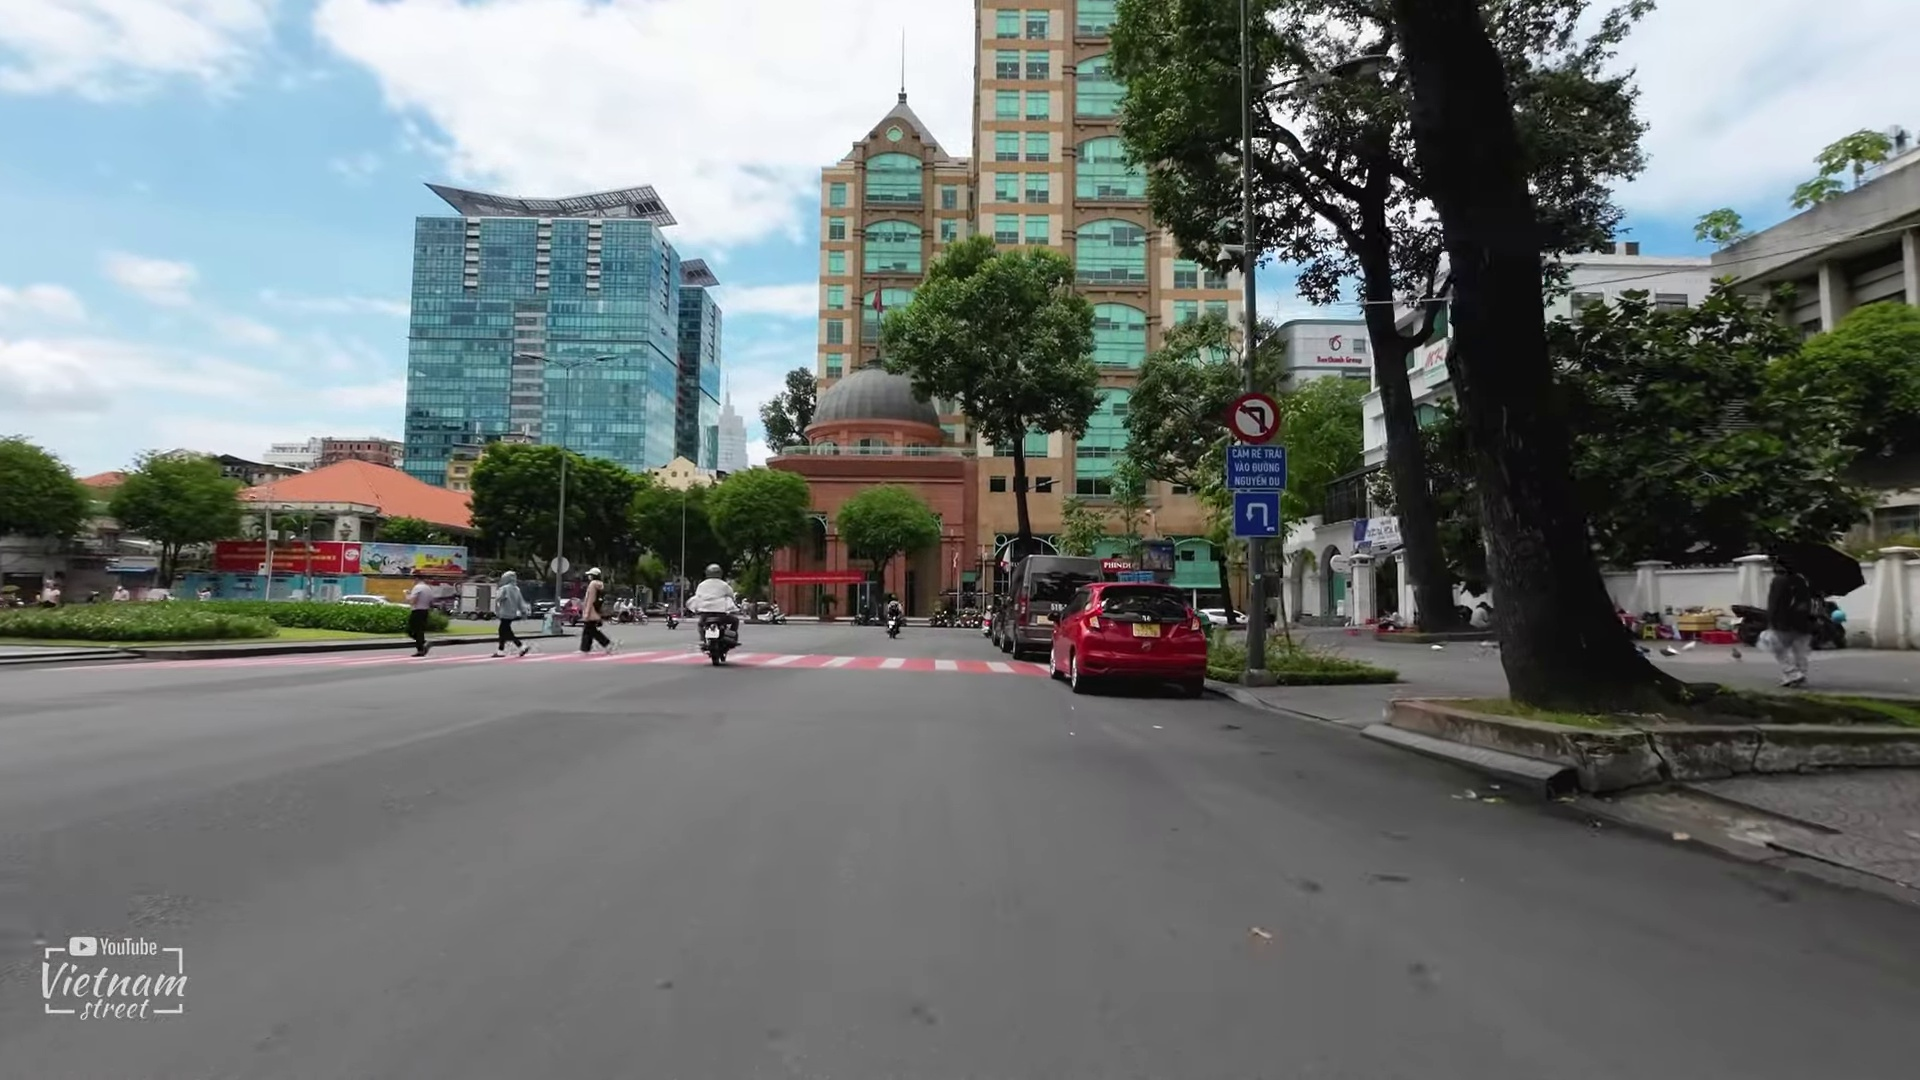cam_re_trai: (1228, 392, 1283, 444)
